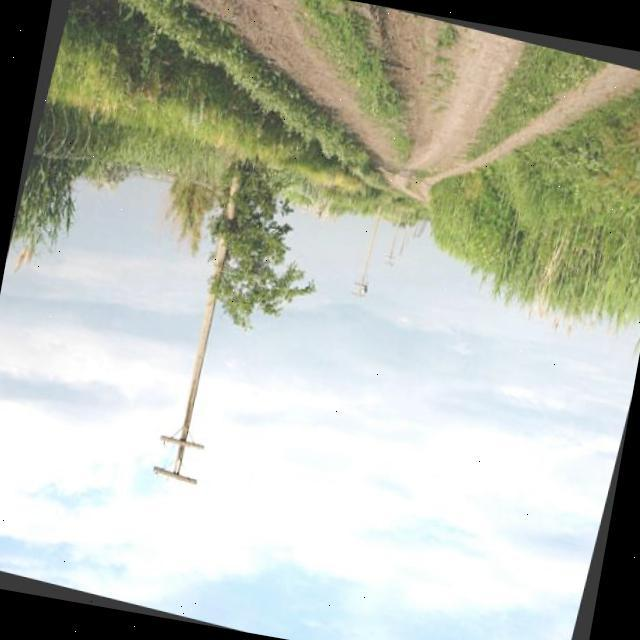critical vegetation: (134, 185, 288, 501), (181, 172, 308, 347)
